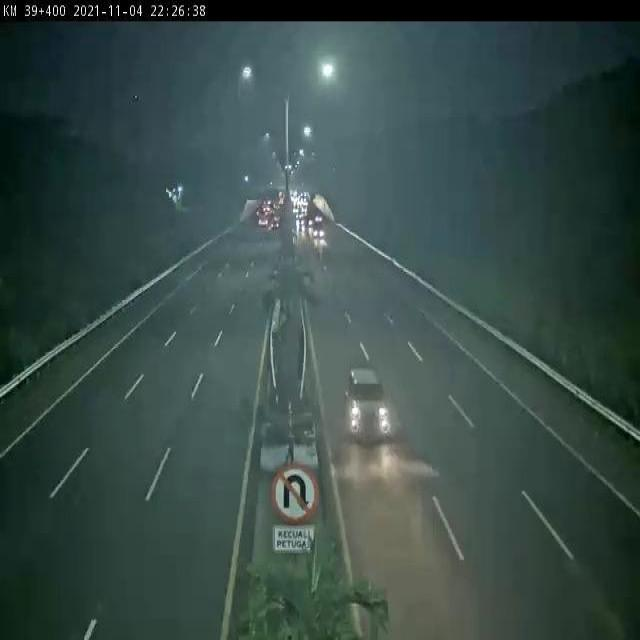car: (342, 362, 397, 467)
